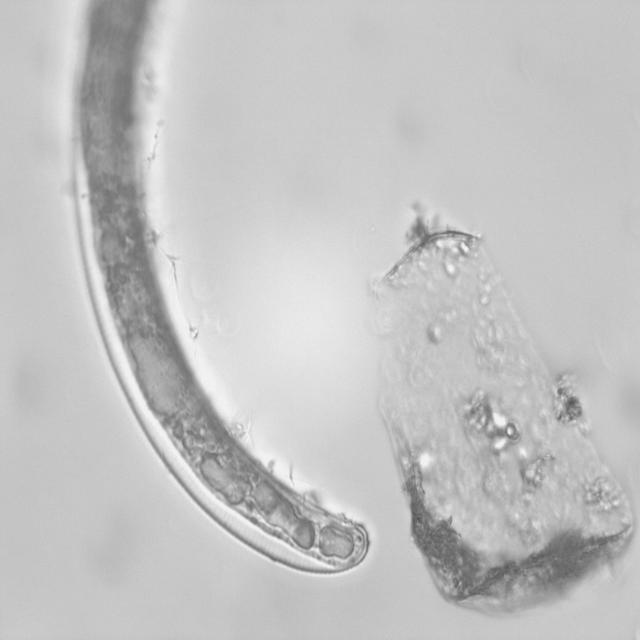Helicotylenchus: (68, 134, 377, 578)
